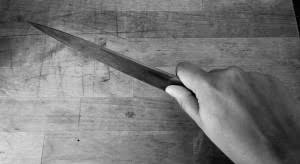knife: (27, 19, 260, 126)
